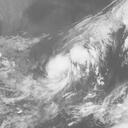cyclone: (49, 52, 72, 80)
